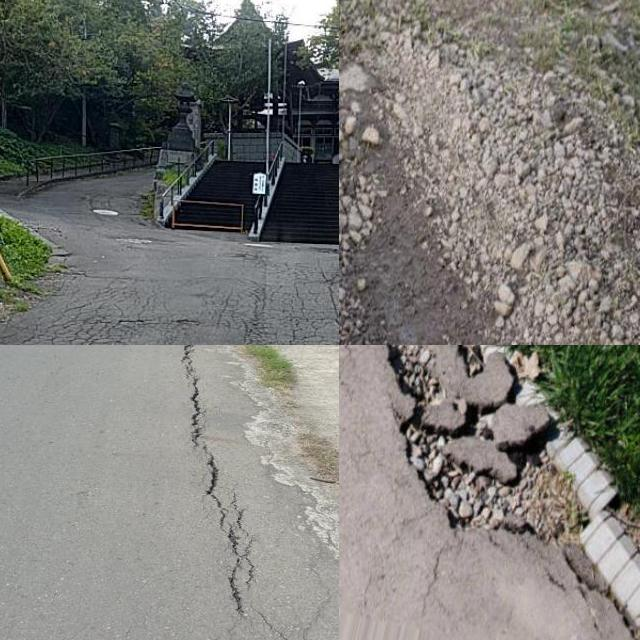Pinggir: (339, 0, 534, 345), (359, 345, 627, 560), (147, 345, 339, 640)
